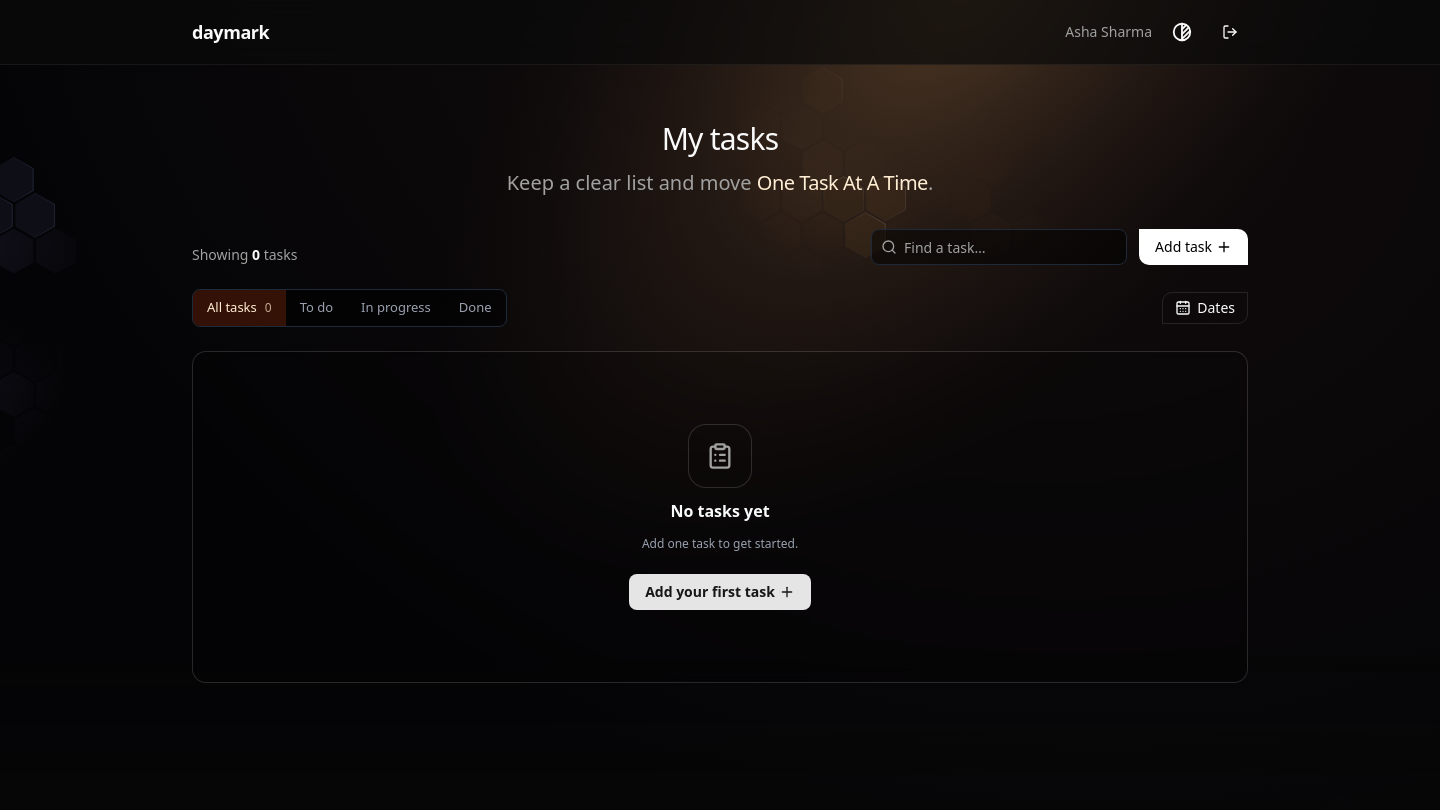
Scenario: task dashboard › creates a task with a required due date and no description when omitted
Click the button "Add your first task" at x=720, y=592, box [629,574,811,610]
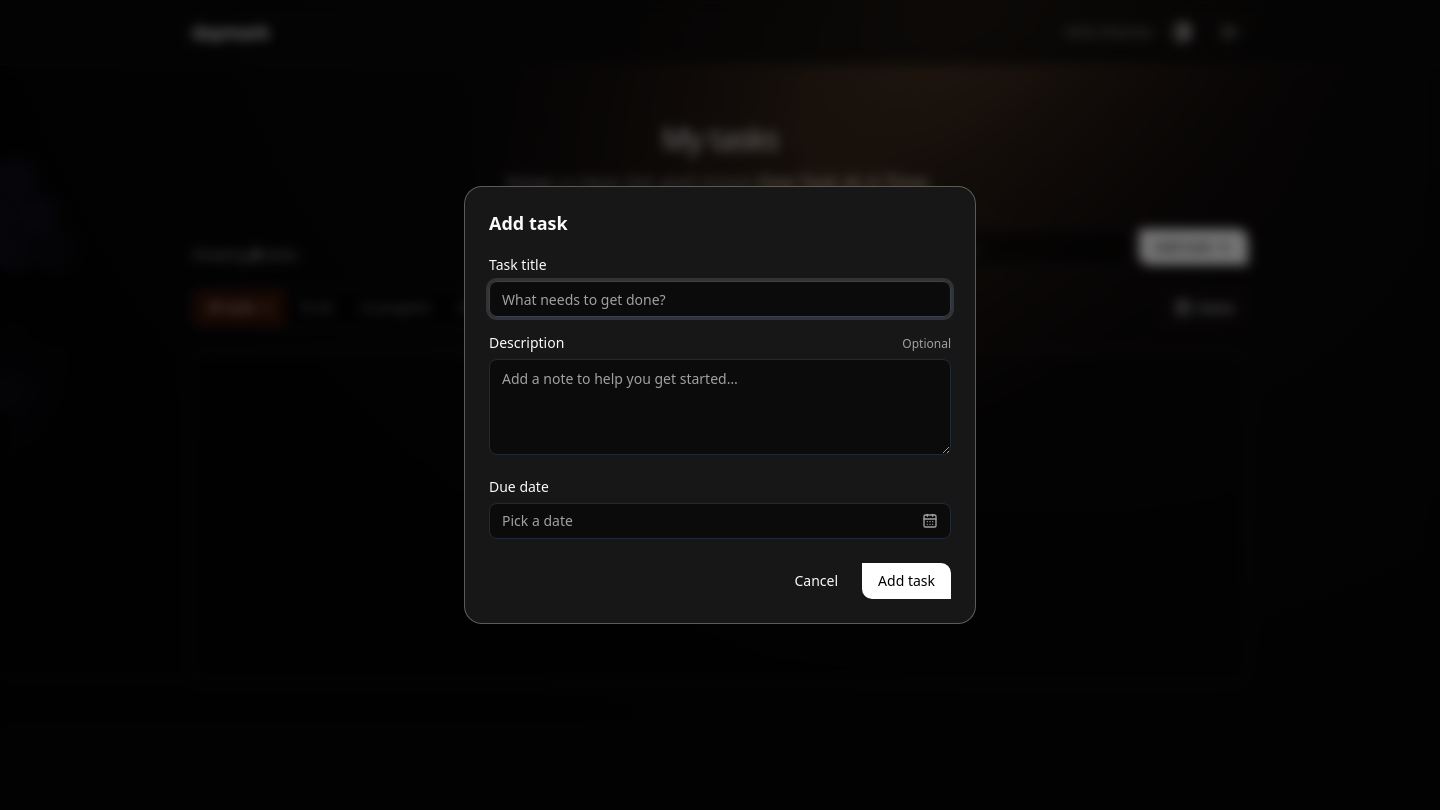
Type "Finish wireframes" into the field labelled "Task title" at x=720, y=299, box [489,281,951,317]
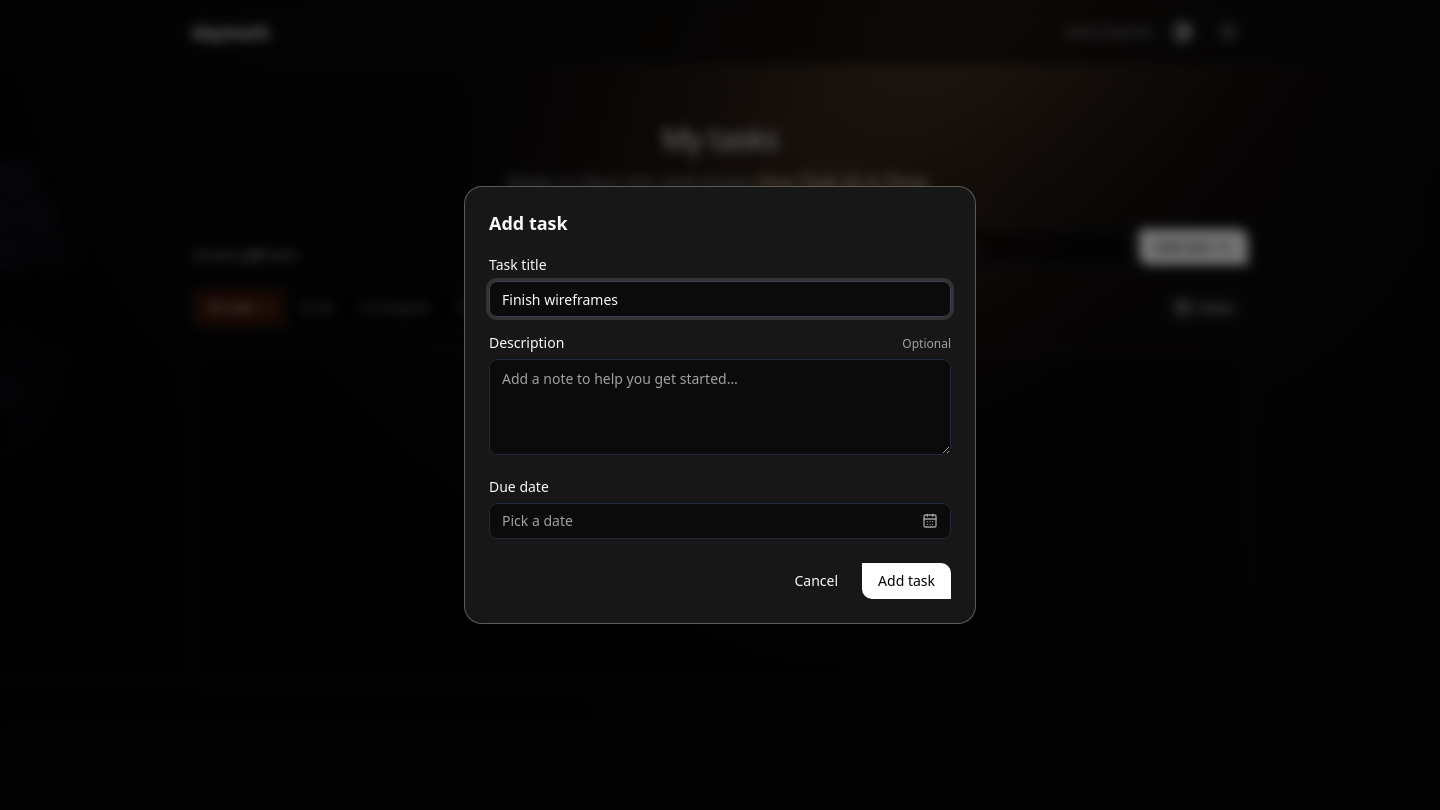
Click the button named "due date" at x=537, y=521, box [489,503,951,539]
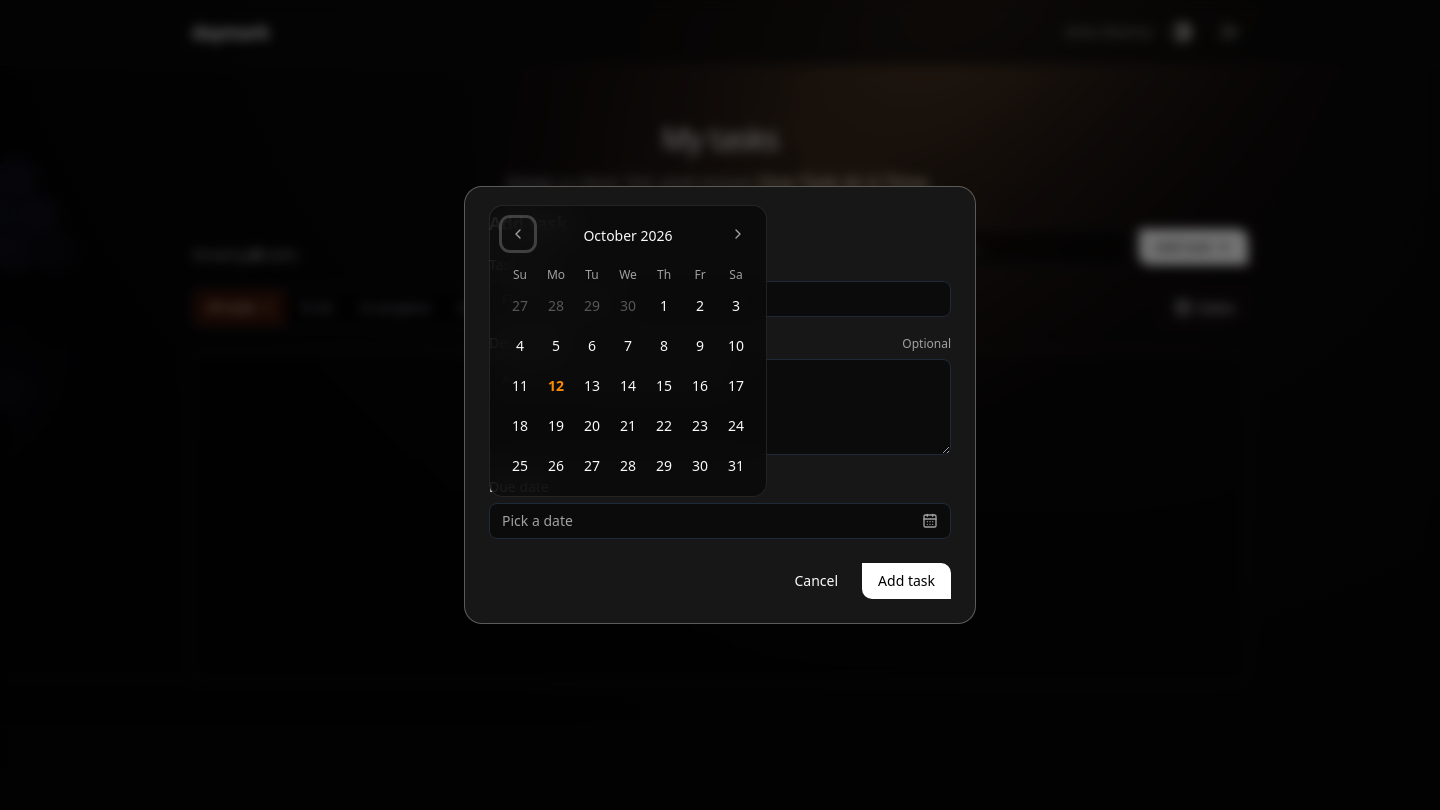
Click the button named "Go to the Next Month" at x=738, y=234, box [722,218,754,250]
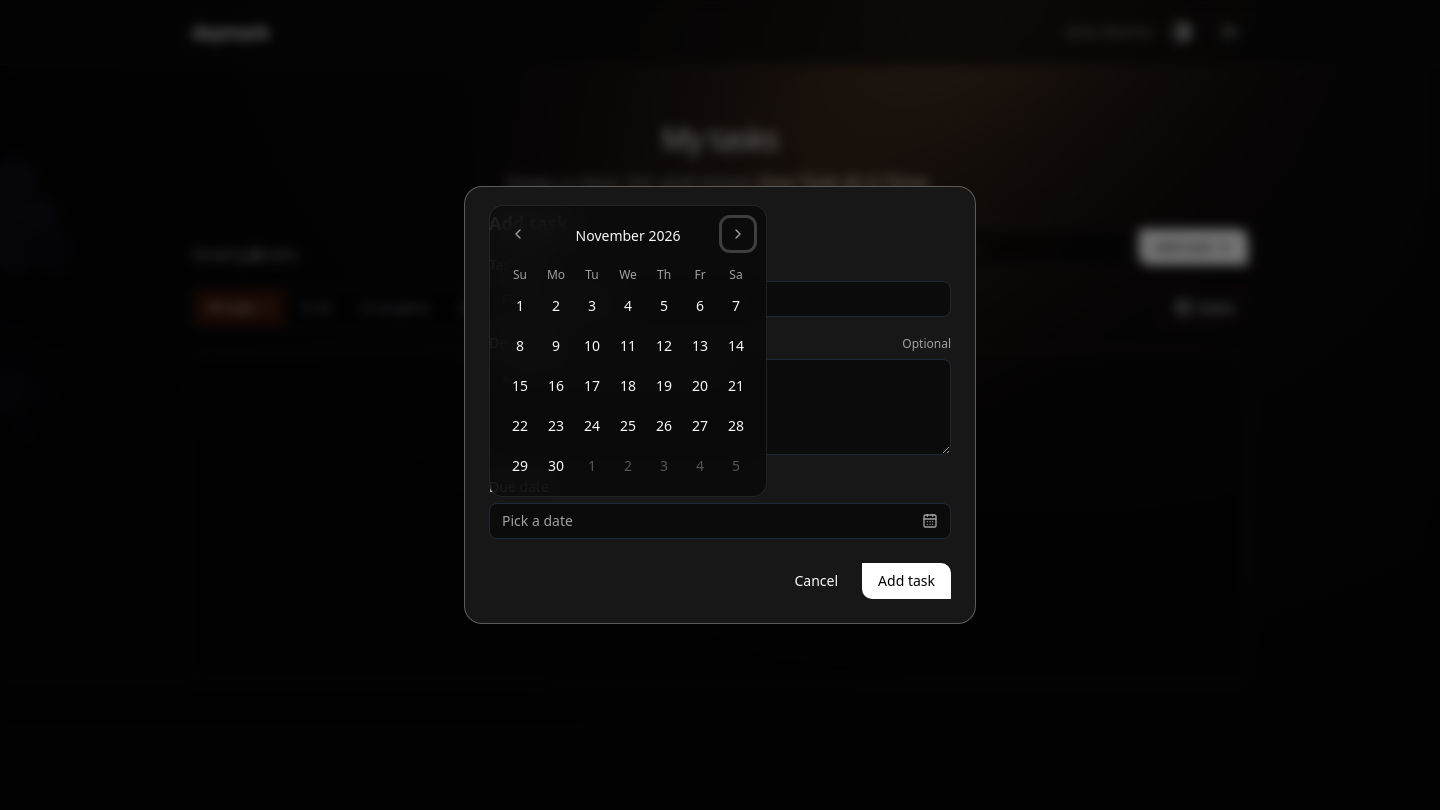
Expected: the 1st button "3" is shown
Click the 1st button "3" at x=592, y=306, box [574,288,610,324]
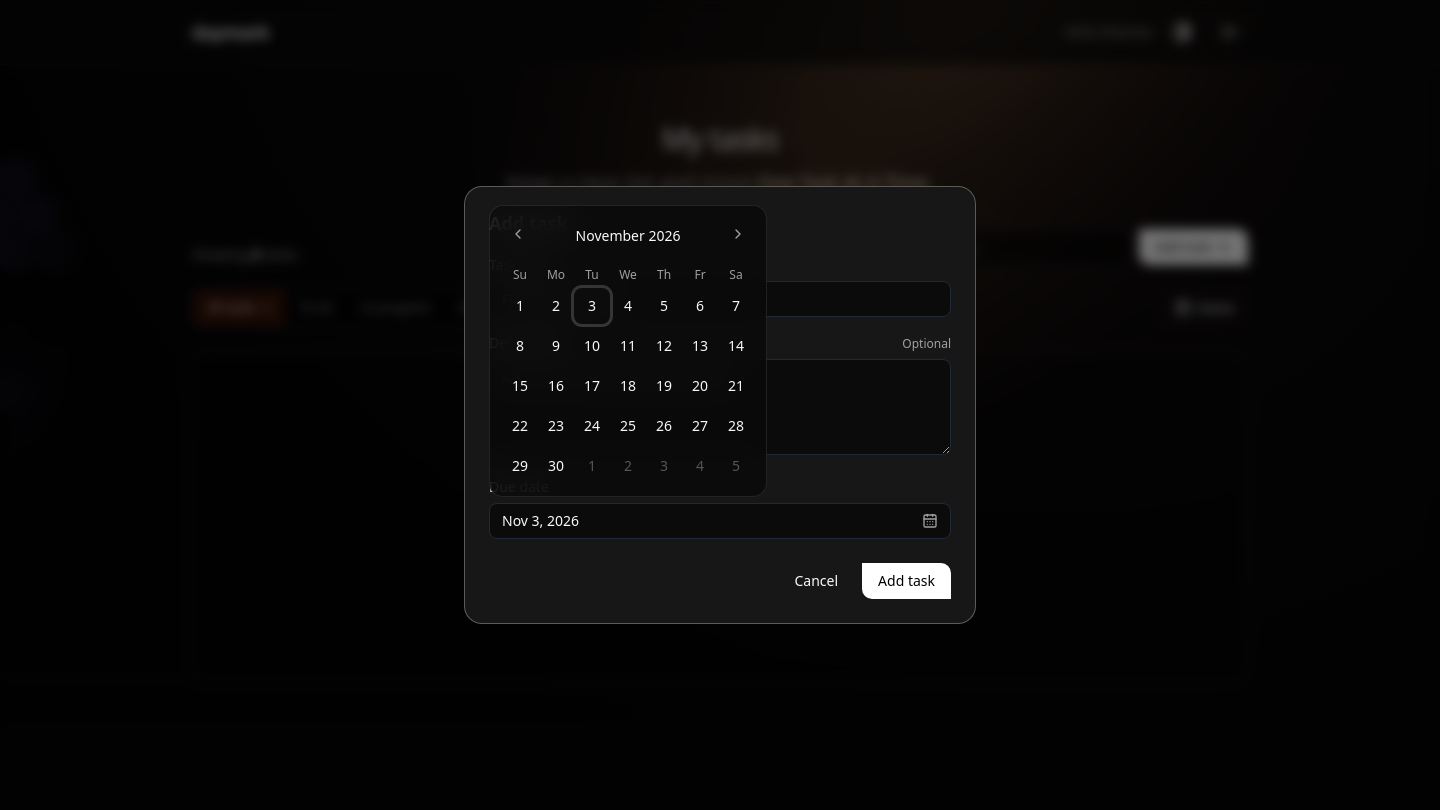
Click the button "Add task" at x=907, y=581, box [862,563,951,599]
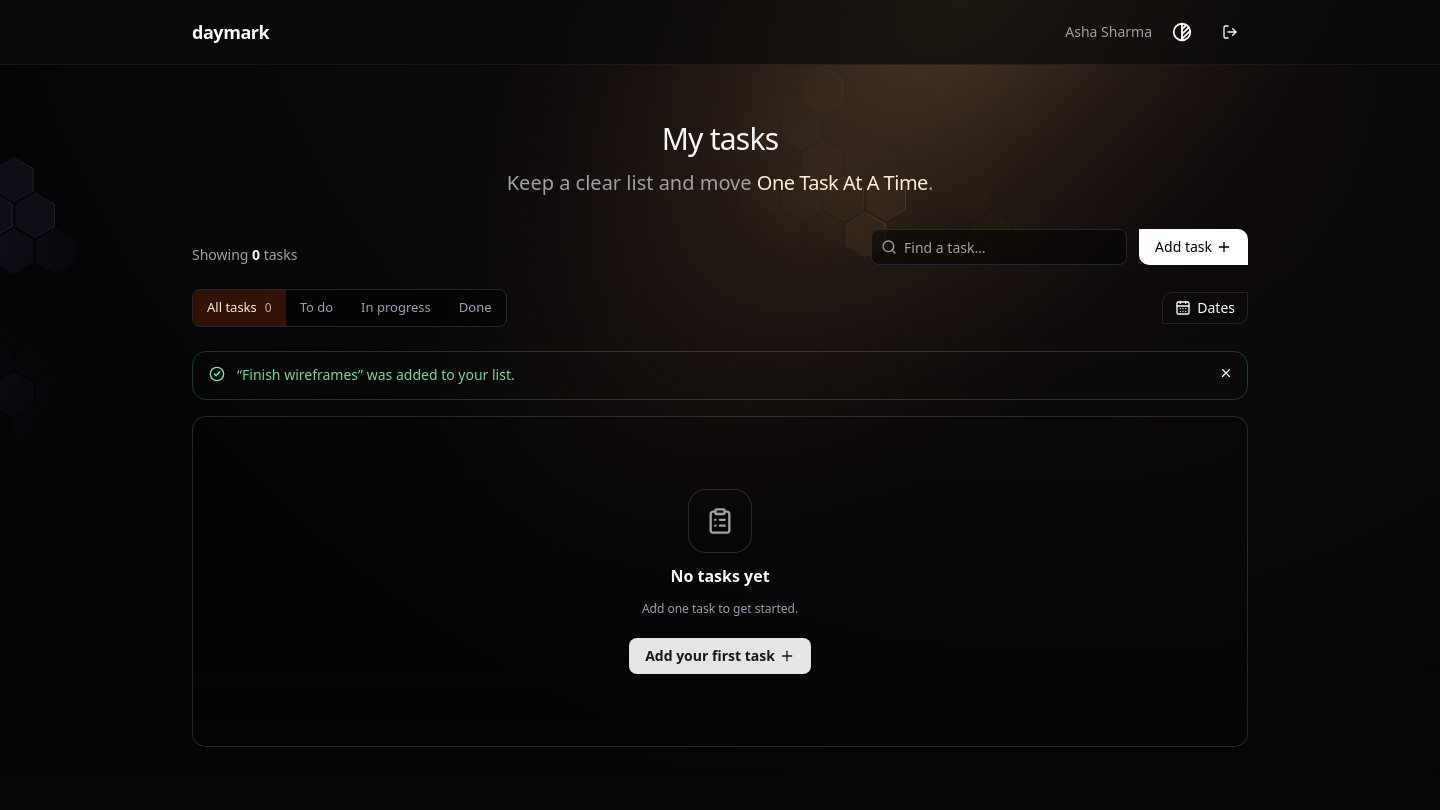
Expected: the message shows "Finish wireframes", [237,365,515,384]
